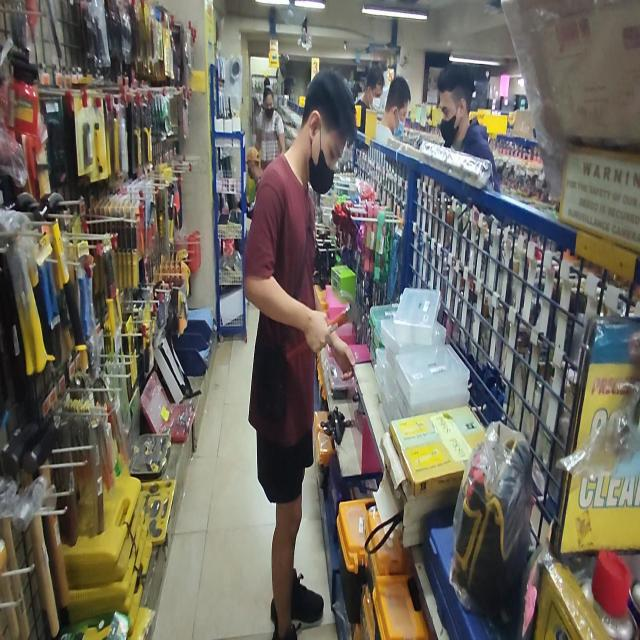hammer: (287, 293, 363, 370)
